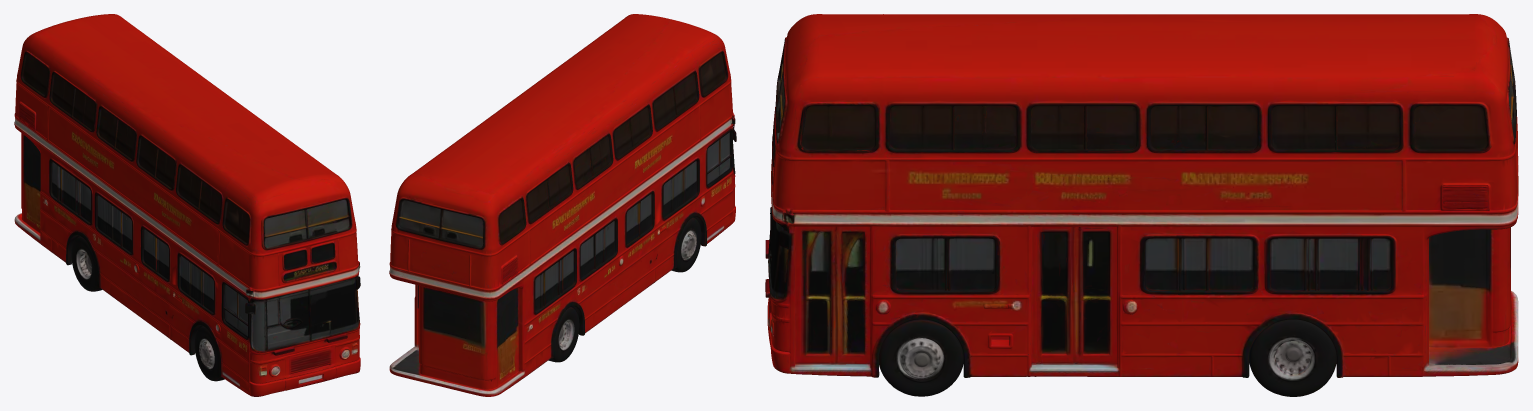
File: An_hong_kong_red_double-decker_bus.glb
3 renders of one model, left to right at view 1: azimuth 30°, elevation 25°; view 2: azimuth 150°, elevation 25°; view 3: azimuth 270°, elevation 25°, orthographic. The views are drawn at different scales.
Visible parts, largest first — view 1: material; view 2: material; view 3: material.
Boxes of the visible parts, box(x1,y1,x2,y2) form: material: box(14, 14, 360, 396); material: box(389, 14, 736, 396); material: box(765, 14, 1518, 396).
Bounding box in the file's own units: 0.2929 × 0.5183 × 1.1.
Materials: 1 (1 with a texture image).
